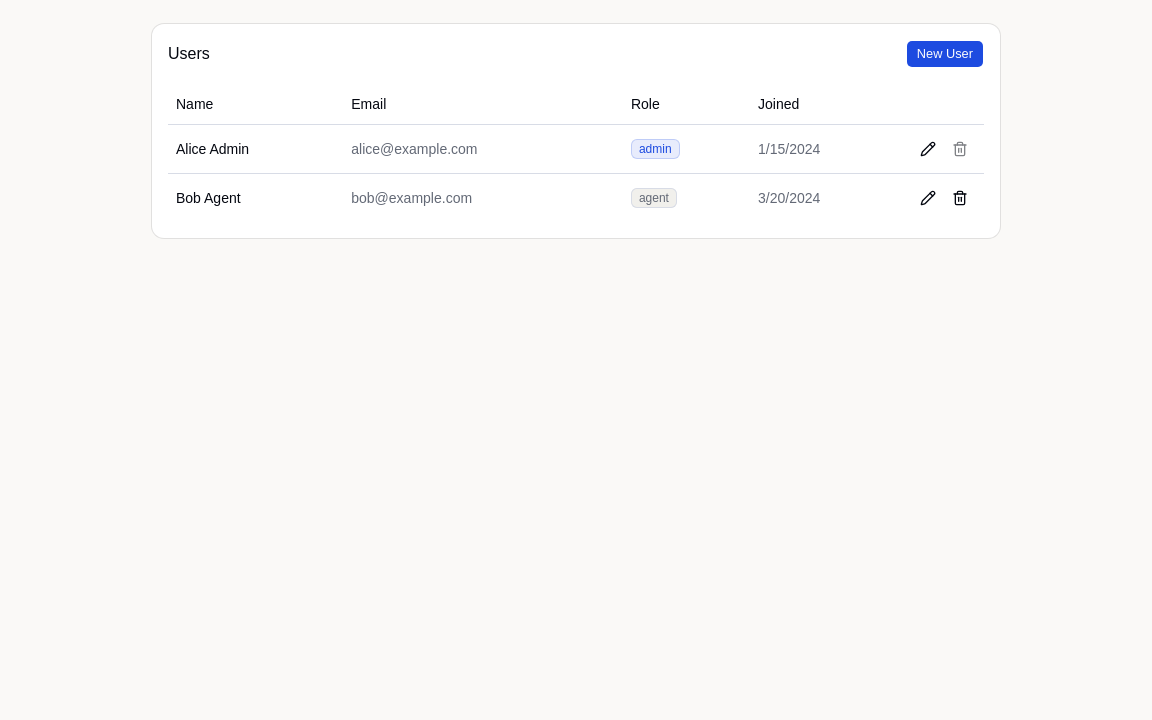
Test: UsersPage — Create User dialog › opens the dialog when "New User" is clicked
The width and height of the screenshot is (1152, 720).
Step 1. Click the button "New User" → {"x": 945, "y": 54}, box [906,40,984,68]
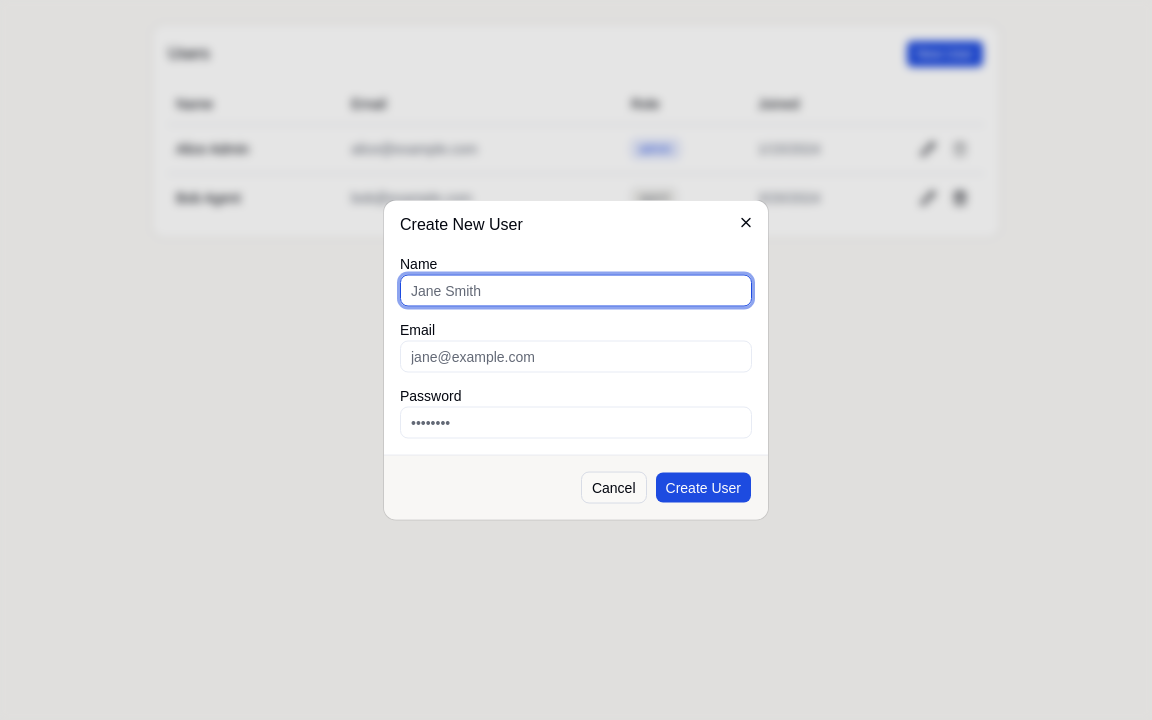
Expected: the dialog is shown, [384,200,768,520]
Expected: the field labelled "Name" is shown, [400,274,752,306]
Expected: the field labelled "Email" is shown, [400,340,752,372]
